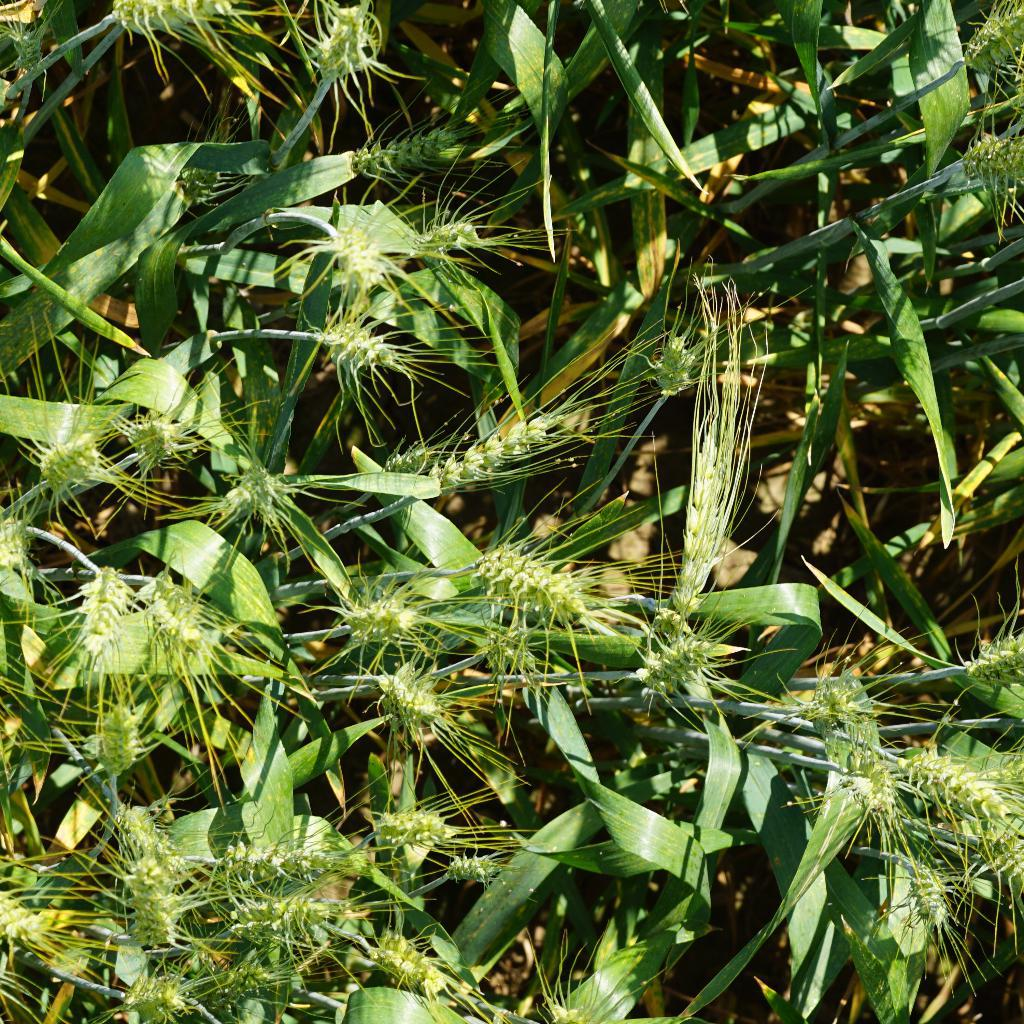0-0: (413, 415, 602, 512), (671, 395, 737, 616), (899, 743, 1024, 842), (473, 544, 598, 628), (138, 561, 209, 684), (291, 0, 381, 97), (367, 919, 471, 1002), (219, 890, 347, 949), (307, 307, 410, 378), (169, 956, 296, 1011), (372, 668, 468, 736), (126, 852, 194, 948), (216, 837, 320, 899), (208, 455, 290, 529), (348, 129, 468, 179), (112, 803, 189, 879), (176, 120, 240, 211), (639, 631, 722, 701), (75, 556, 127, 666), (96, 0, 245, 37), (365, 799, 456, 859), (111, 400, 193, 466), (795, 672, 878, 737), (313, 221, 391, 290), (955, 0, 1024, 78), (639, 333, 710, 406), (114, 964, 198, 1024), (88, 697, 145, 785), (834, 751, 903, 823), (899, 858, 961, 937), (342, 597, 438, 647), (960, 119, 1024, 193), (946, 627, 1024, 687), (29, 437, 111, 490), (441, 841, 514, 893), (0, 859, 43, 946), (381, 438, 444, 488), (0, 18, 52, 73), (530, 993, 610, 1024)
